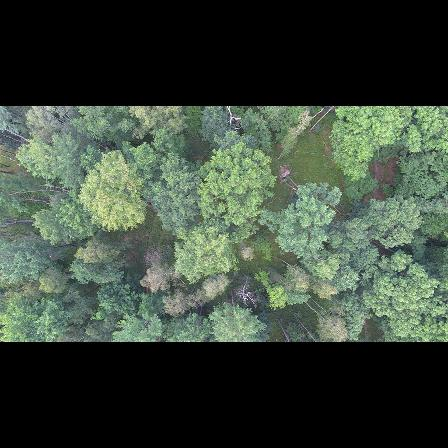Dead: (231, 278, 262, 313), (221, 107, 242, 133)
